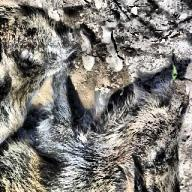boar: (0, 4, 191, 192)
